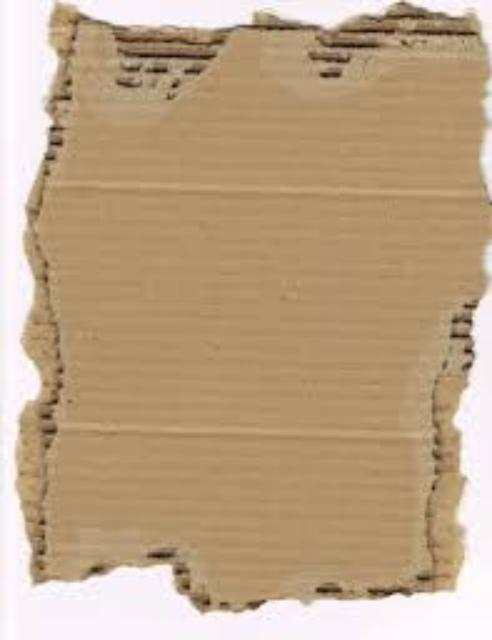cardboard paper: (18, 0, 480, 602)
